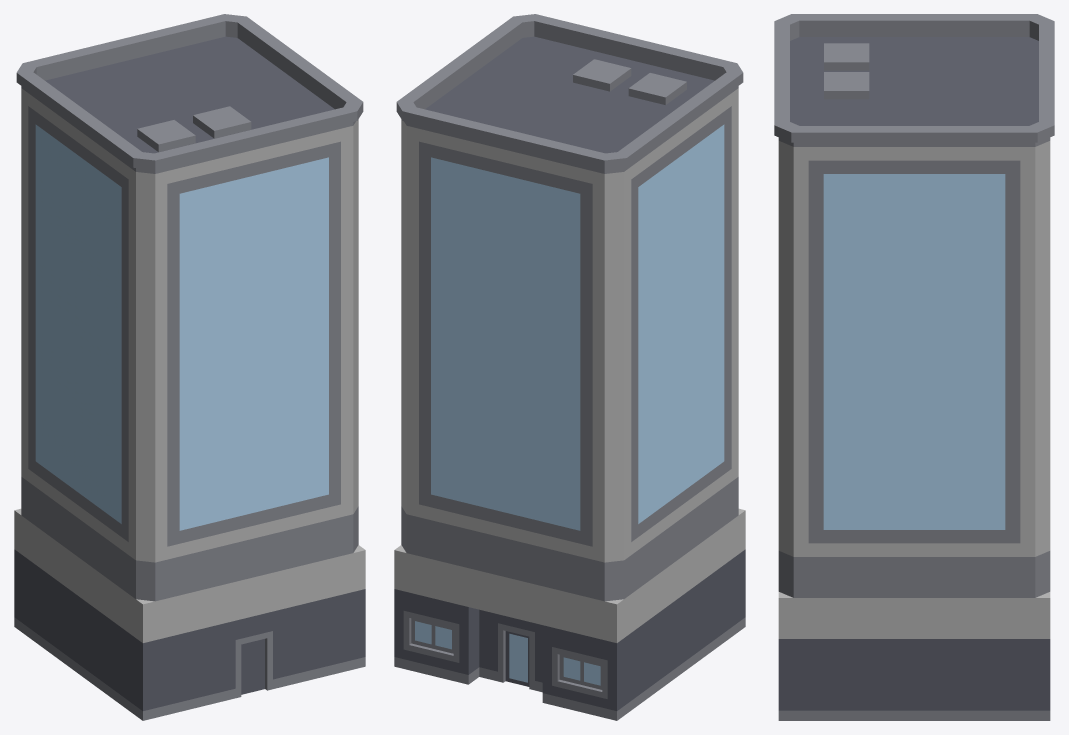
The model's file is skyscraperA.obj.
The picture shows the model from 3 angles, left to right: view 1: azimuth 30°, elevation 25°; view 2: azimuth 150°, elevation 25°; view 3: azimuth 270°, elevation 25°; orthographic projection. The views are drawn at different scales.
Visible parts, largest first — view 1: skyscraperA; view 2: skyscraperA; view 3: skyscraperA.
Part boxes in pixels (x1,y1,x2,y2): skyscraperA: [14, 14, 365, 720]; skyscraperA: [394, 14, 745, 720]; skyscraperA: [774, 14, 1054, 720].
Size of the model in its own units: 1.24 by 2.88 by 1.24.
